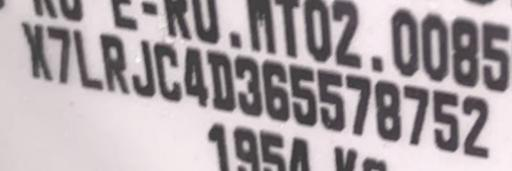letter: (71, 26, 103, 91), (20, 20, 52, 83), (99, 31, 129, 94), (152, 42, 184, 101), (462, 95, 490, 160), (432, 90, 460, 153), (289, 64, 317, 127), (45, 24, 73, 85), (234, 55, 262, 116), (261, 60, 289, 121), (318, 69, 344, 130), (345, 74, 371, 135), (374, 80, 400, 141), (403, 85, 429, 146), (182, 47, 208, 108), (208, 50, 234, 111), (131, 39, 155, 98)
